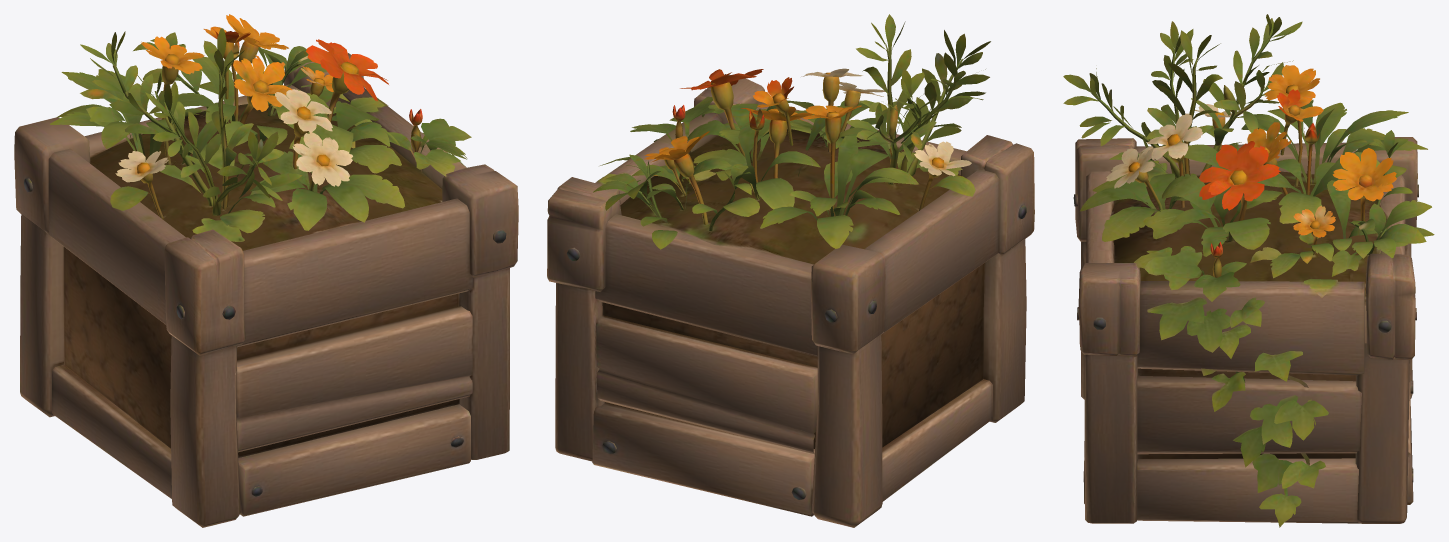
File: planter.glb
The picture shows the model from 3 angles, left to right: view 1: azimuth 30°, elevation 25°; view 2: azimuth 150°, elevation 25°; view 3: azimuth 270°, elevation 25°; orthographic projection. The views are drawn at different scales.
Visible parts, largest first — view 1: tripo_node_74b16364-9e9e-4e74-9d7f-ce84aa13ce2a; view 2: tripo_node_74b16364-9e9e-4e74-9d7f-ce84aa13ce2a; view 3: tripo_node_74b16364-9e9e-4e74-9d7f-ce84aa13ce2a.
Part boxes in pixels (x1,y1,x2,y2): tripo_node_74b16364-9e9e-4e74-9d7f-ce84aa13ce2a: [14, 14, 518, 527]; tripo_node_74b16364-9e9e-4e74-9d7f-ce84aa13ce2a: [547, 14, 1034, 527]; tripo_node_74b16364-9e9e-4e74-9d7f-ce84aa13ce2a: [1063, 14, 1434, 527].
Bounding box in the file's own units: 0.8999 × 0.9995 × 0.8579.
1 material, 1 textured.
